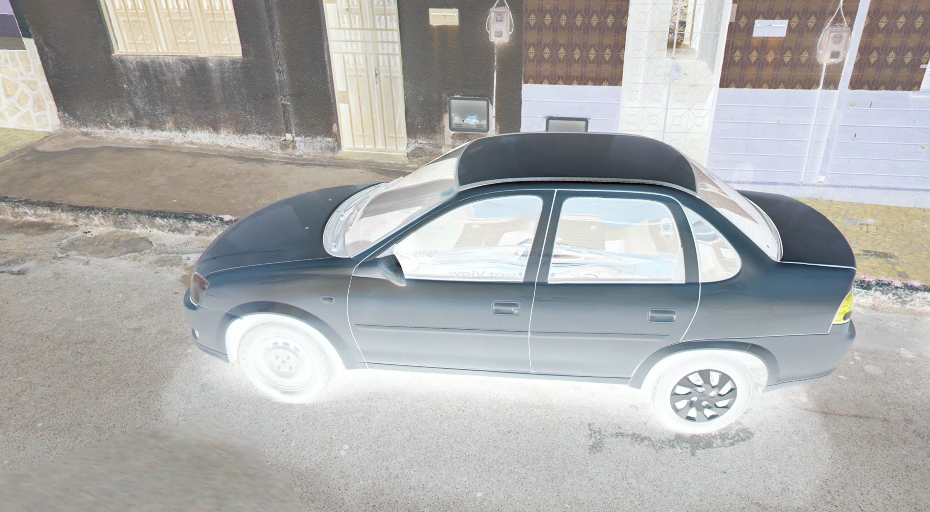car: (177, 123, 868, 448)
